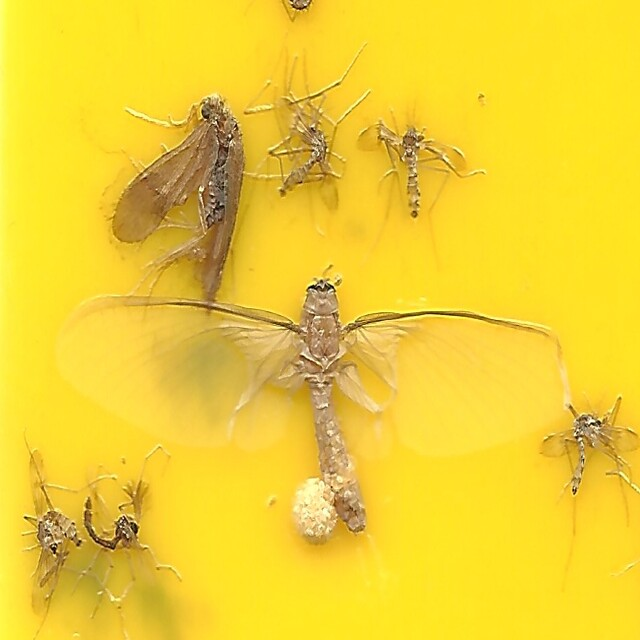Ephemeroptera: (68, 277, 572, 542)
Trichoptera: (109, 98, 247, 321)
